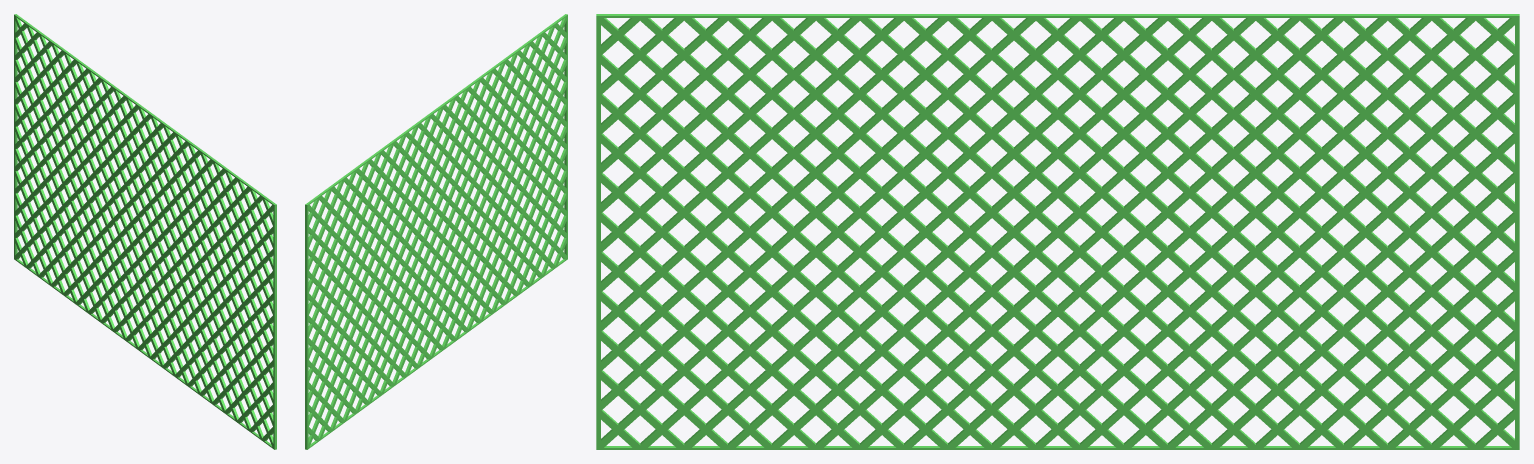
The model's file is FenceX.fbx.
3 views of the same model, side by side, from view 1: azimuth 30°, elevation 25°; view 2: azimuth 150°, elevation 25°; view 3: azimuth 270°, elevation 25° (orthographic). The views are drawn at different scales.
Parts seen in each view (by area): view 1: 立方体; view 2: 立方体; view 3: 立方体.
Boxes of the visible parts, x1,y1,x2,y2 form: 立方体: (14, 14, 276, 449); 立方体: (305, 14, 567, 449); 立方体: (596, 14, 1519, 449).
Size of the model in its own units: 0.049 by 5.01 by 9.67.
